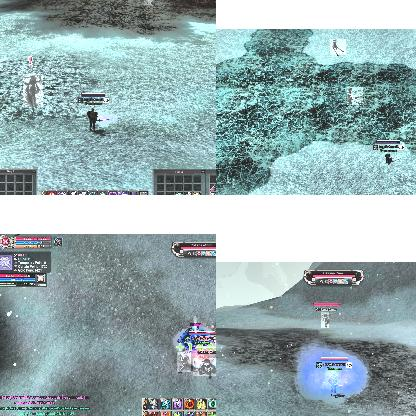caliana: (23, 74, 43, 108), (193, 357, 216, 376), (347, 87, 363, 105), (177, 352, 191, 372), (330, 39, 346, 55), (321, 312, 329, 328), (144, 0, 154, 6)
